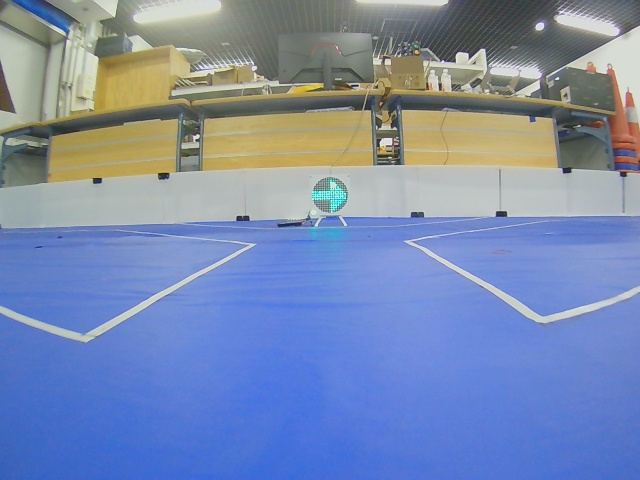right_green: (311, 177, 348, 213)
